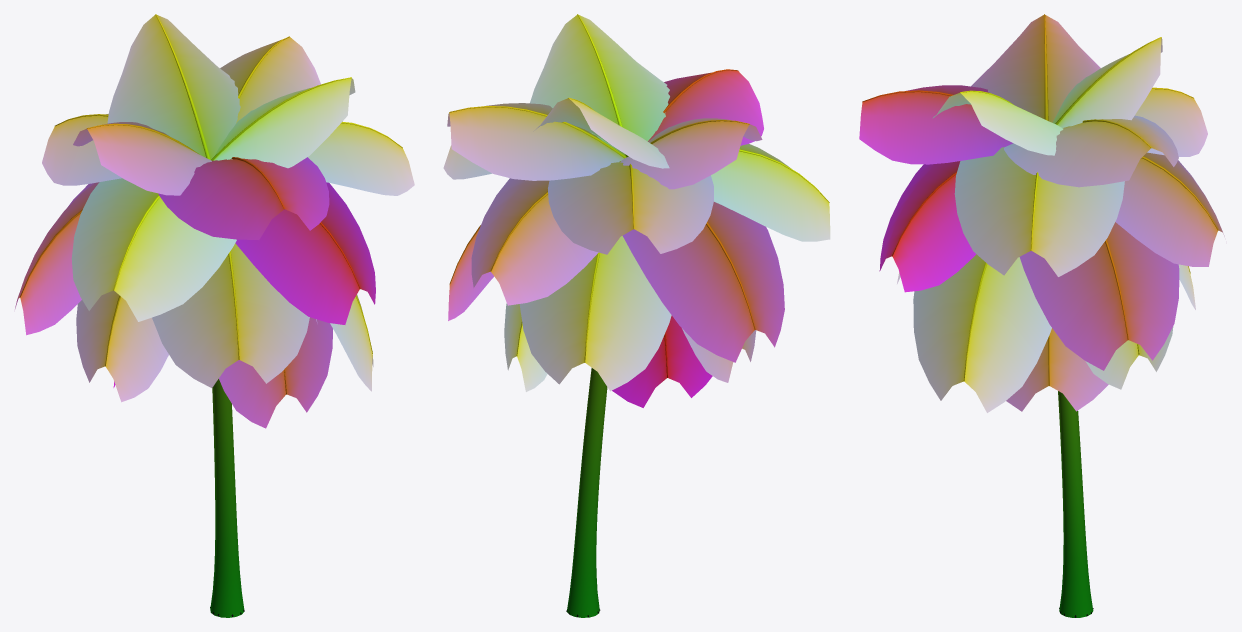
The model's file is coconut_palm.glb.
3 renders of one model, left to right at view 1: azimuth 30°, elevation 25°; view 2: azimuth 150°, elevation 25°; view 3: azimuth 270°, elevation 25°, orthographic. The views are drawn at different scales.
Parts seen in each view (by area): view 1: coconut_palm_fronds, coconut_palm_bark; view 2: coconut_palm_fronds, coconut_palm_bark; view 3: coconut_palm_fronds, coconut_palm_bark.
Part boxes in pixels (x1,y1,x2,y2): coconut_palm_fronds: [15, 15, 414, 428]; coconut_palm_bark: [20, 14, 402, 617]; coconut_palm_fronds: [443, 15, 830, 407]; coconut_palm_bark: [449, 14, 829, 617]; coconut_palm_fronds: [859, 15, 1224, 412]; coconut_palm_bark: [862, 14, 1218, 617].
Size of what is drawn, in the model's own units: 7.54 by 11.63 by 6.92.
